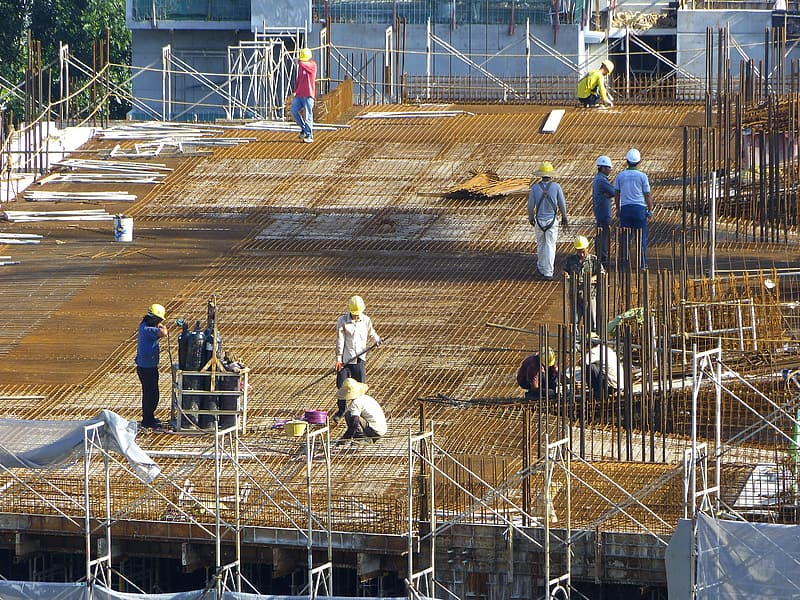Hard Hat: (146, 303, 166, 326), (348, 297, 367, 321), (538, 346, 556, 367), (573, 238, 590, 260), (343, 380, 360, 401), (596, 156, 613, 176), (625, 149, 642, 169), (540, 161, 554, 182), (599, 61, 614, 77), (585, 334, 600, 348), (299, 48, 313, 62)
Person: (334, 299, 385, 421), (528, 163, 570, 281), (565, 238, 601, 351), (618, 152, 652, 270), (136, 302, 167, 426), (336, 380, 387, 439), (580, 333, 626, 397), (591, 158, 615, 266), (522, 346, 568, 398), (293, 48, 317, 144), (576, 59, 615, 108)
